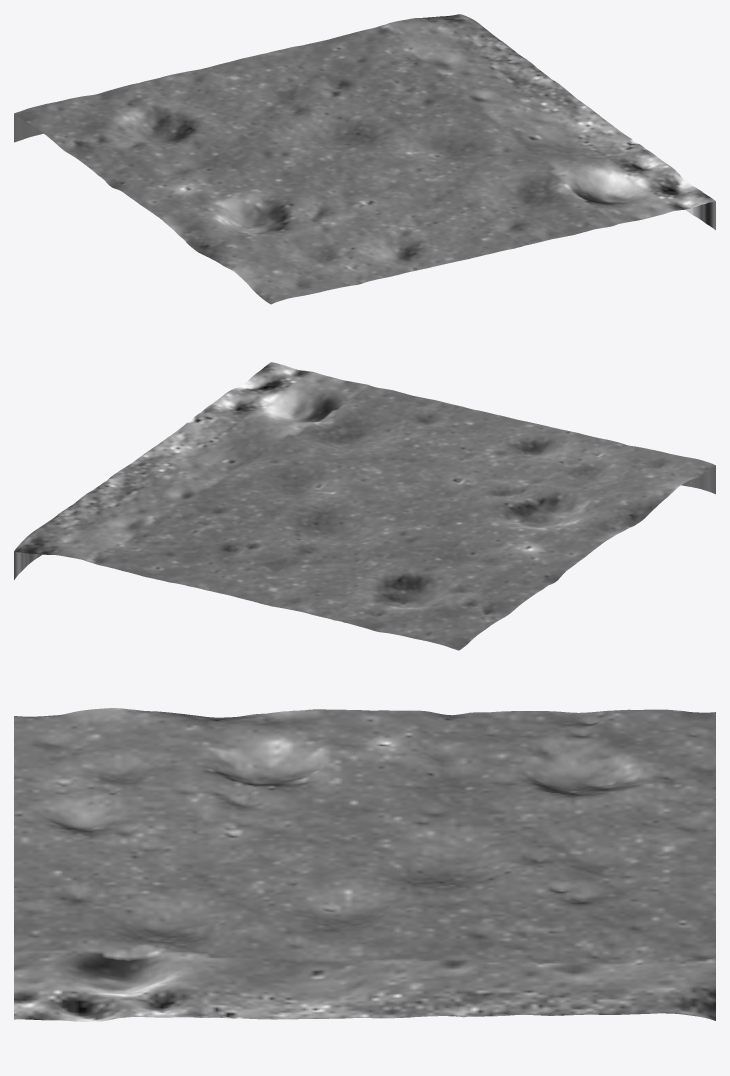
3 views of the same model, one above another, from view 1: azimuth 30°, elevation 25°; view 2: azimuth 150°, elevation 25°; view 3: azimuth 270°, elevation 25° (orthographic). The views are drawn at different scales.
Bounding box in the file's own units: 1277 × 116 × 1278.
1 material, 1 textured.
